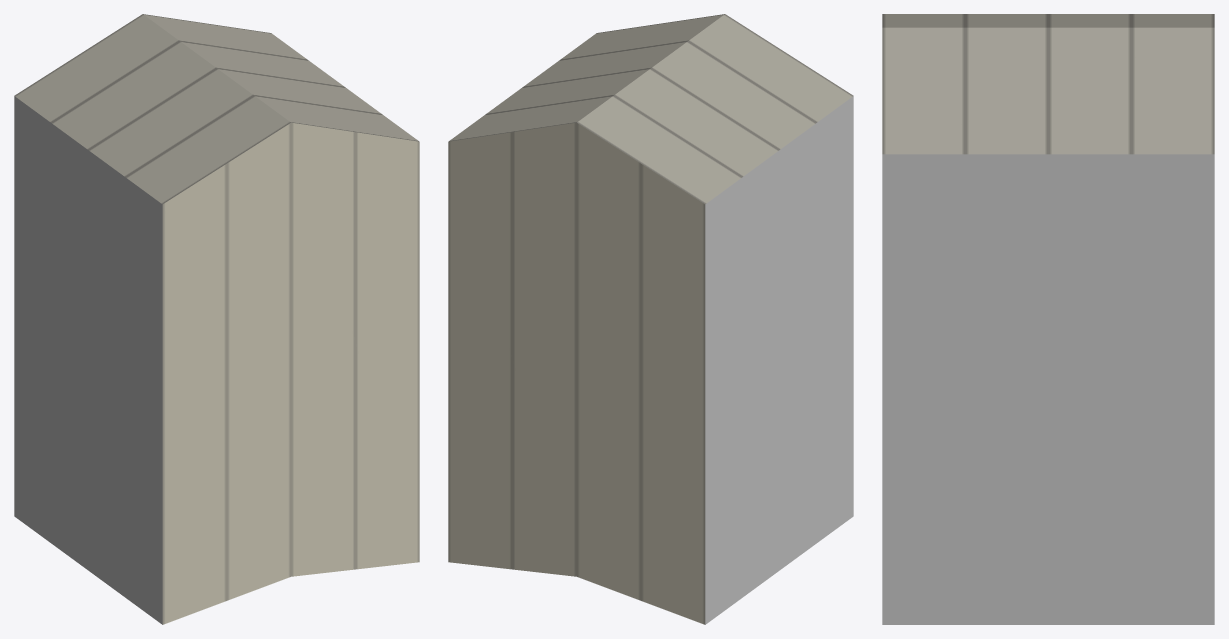
Rendered from dc_metro_roof_f1e.obj.
3 renders of one model, left to right at view 1: azimuth 30°, elevation 25°; view 2: azimuth 150°, elevation 25°; view 3: azimuth 270°, elevation 25°, orthographic. The views are drawn at different scales.
Parts seen in each view (by area): view 1: part1e; view 2: part1e; view 3: part1e.
Boxes of the visible parts, x1,y1,x2,y2 form: part1e: [14, 14, 419, 624]; part1e: [448, 14, 853, 624]; part1e: [882, 14, 1214, 624].
Size of the model in its own units: 1 by 1.75 by 1.
4 materials, 3 textured.
